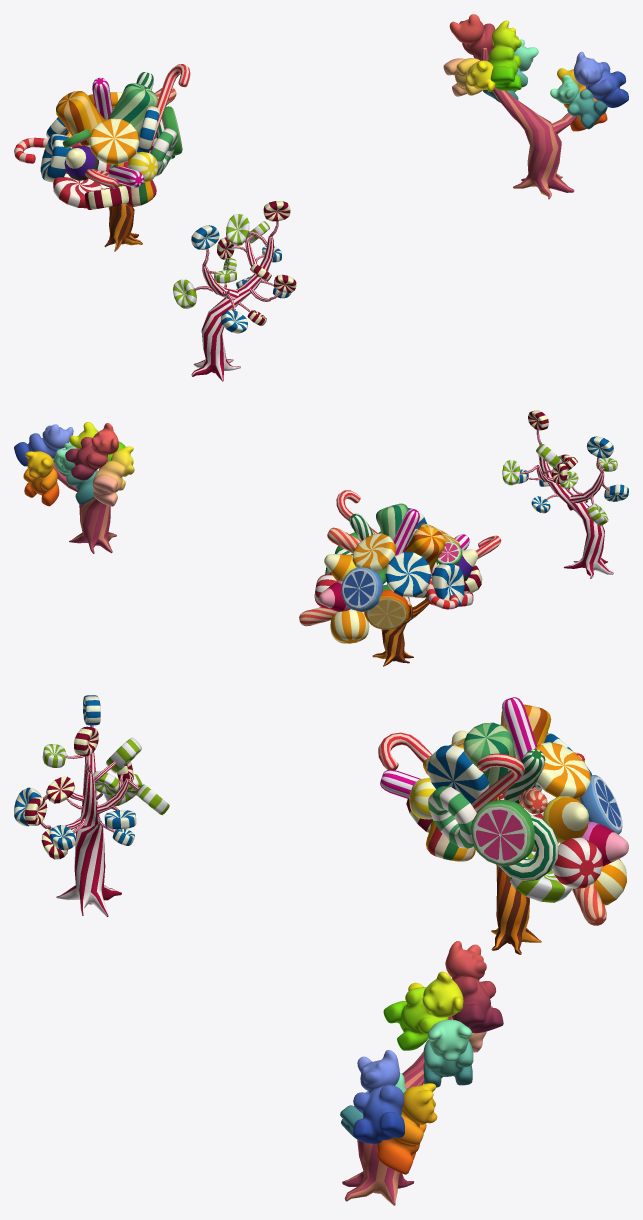
The model's file is 糖果树.fbx.
3 renders of one model, top to bottom at view 1: azimuth 30°, elevation 25°; view 2: azimuth 150°, elevation 25°; view 3: azimuth 270°, elevation 25°, orthographic. The views are drawn at different scales.
Parts seen in each view (by area): view 1: model_0, model_2, model_6.006, model_6.007, model_6.008, model_6.011, model_6.005, model_4.230, model_6.009, model_4.239, model_4.240, model_4.231; view 2: model_0, model_2, model_6.005, model_6.008, model_6.010, model_6.006, model_6.009, model_6.007, model_4.230; view 3: model_0, model_2, model_6.006, model_6.007, model_6.005, model_6.009, model_6.010, model_4.230.
Boxes of the visible parts, bbox=[...] form: model_0: bbox=[14, 64, 190, 251]; model_2: bbox=[173, 201, 296, 381]; model_6.006: bbox=[573, 51, 628, 107]; model_6.007: bbox=[488, 20, 521, 90]; model_6.008: bbox=[443, 58, 495, 96]; model_6.011: bbox=[550, 75, 607, 129]; model_6.005: bbox=[449, 14, 495, 60]; model_4.230: bbox=[481, 48, 562, 199]; model_6.009: bbox=[483, 39, 538, 102]; model_4.239: bbox=[516, 99, 552, 199]; model_4.240: bbox=[509, 93, 546, 187]; model_4.231: bbox=[505, 90, 539, 187]; model_0: bbox=[299, 490, 501, 666]; model_2: bbox=[502, 410, 628, 578]; model_6.005: bbox=[65, 423, 118, 480]; model_6.008: bbox=[92, 446, 134, 506]; model_6.010: bbox=[23, 451, 59, 506]; model_6.006: bbox=[14, 424, 73, 466]; model_6.009: bbox=[56, 443, 97, 505]; model_6.007: bbox=[69, 422, 125, 461]; model_4.230: bbox=[69, 461, 112, 552]; model_0: bbox=[378, 697, 628, 954]; model_2: bbox=[14, 695, 169, 916]; model_6.006: bbox=[353, 1050, 404, 1143]; model_6.007: bbox=[383, 971, 463, 1050]; model_6.005: bbox=[445, 941, 503, 1033]; model_6.009: bbox=[423, 1019, 473, 1087]; model_6.010: bbox=[376, 1083, 437, 1174]; model_4.230: bbox=[342, 1016, 452, 1205].
Size of the model in its own units: 738 by 218 by 528.
